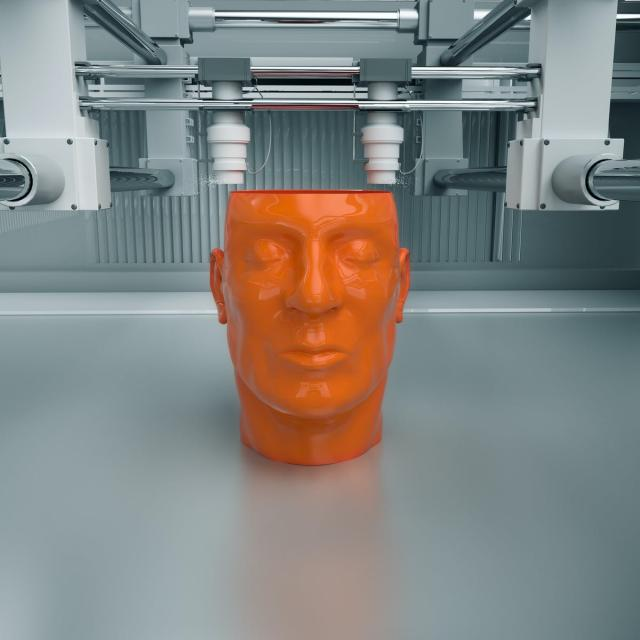Without deffect: (199, 174, 413, 473)
